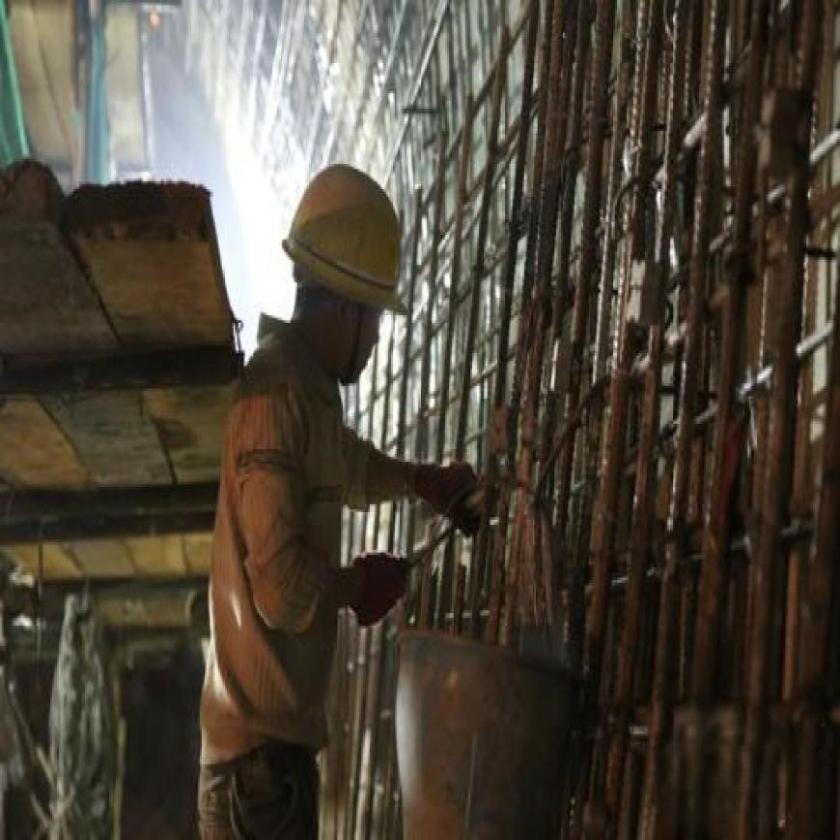Con_casco: (284, 152, 408, 400)
